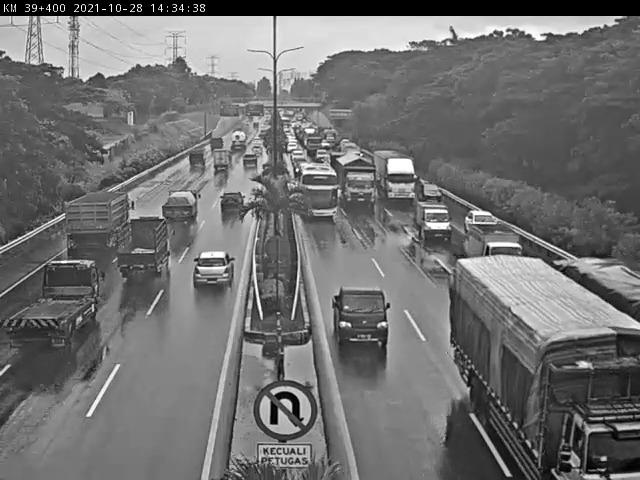big bus: (292, 161, 342, 218)
big truck: (450, 257, 640, 480), (64, 189, 135, 255), (370, 149, 417, 201), (340, 152, 378, 205)
car: (115, 212, 176, 279), (331, 286, 392, 347), (194, 249, 234, 290), (417, 203, 453, 237), (465, 204, 503, 228), (417, 176, 445, 203), (216, 190, 248, 213), (211, 149, 228, 171), (187, 146, 204, 167), (242, 152, 257, 167)
small truck: (0, 259, 108, 346), (471, 225, 525, 260), (160, 189, 200, 221)
